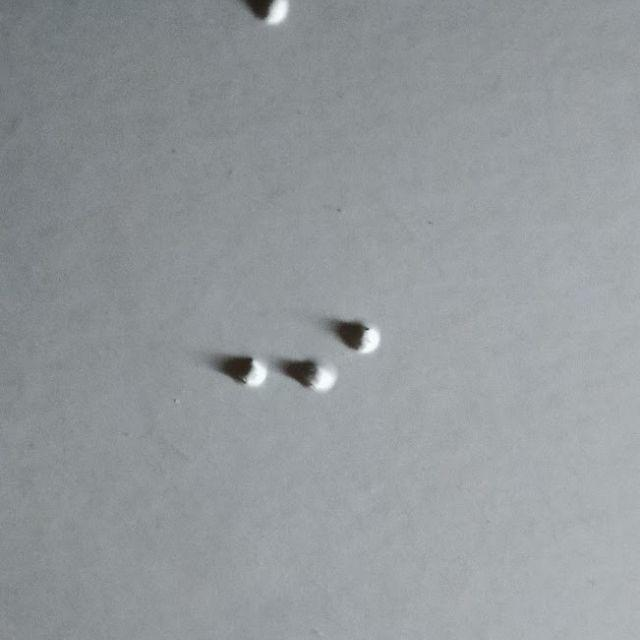dot_5: (175, 322, 268, 439)
isip: (293, 322, 378, 439)
